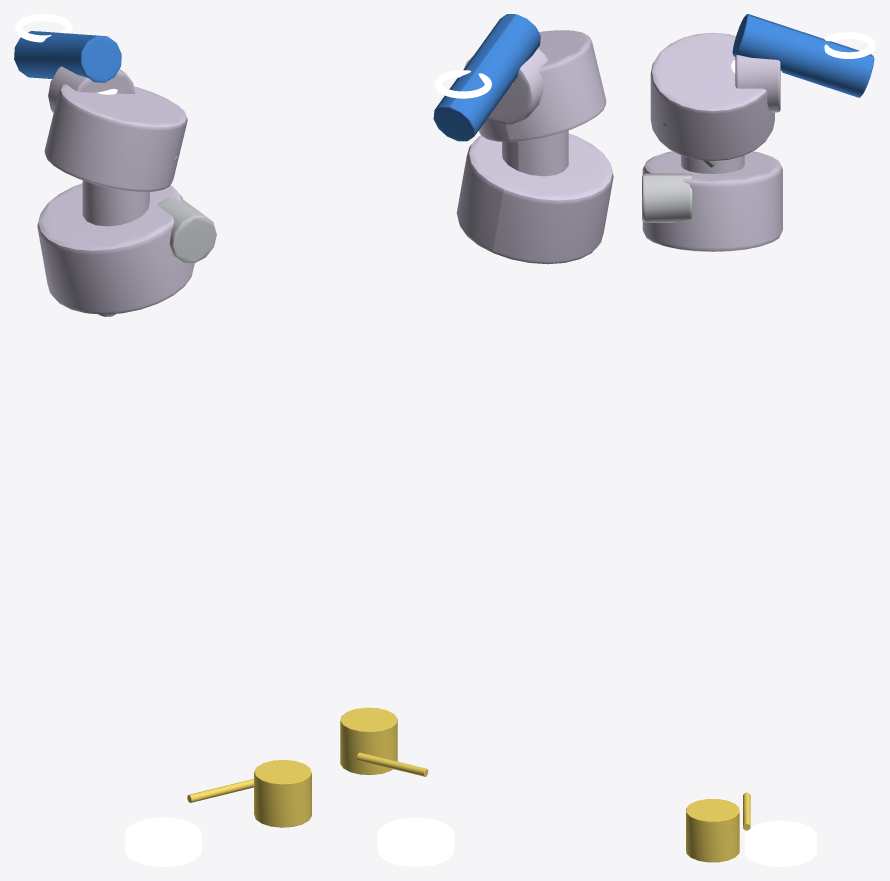
The model's file is engine_v8_turbo_l.glb.
The picture shows the model from 3 angles, left to right: view 1: azimuth 30°, elevation 25°; view 2: azimuth 150°, elevation 25°; view 3: azimuth 270°, elevation 25°; orthographic projection. The views are drawn at different scales.
Parts seen in each view (by area): view 1: Engine_V8_Turbo_L, GEO_V8Turbo_WastegateActuator, GEO_V8Turbo_BilletImpeller; view 2: Engine_V8_Turbo_L, GEO_V8Turbo_WastegateActuator, GEO_V8Turbo_BilletImpeller; view 3: Engine_V8_Turbo_L, GEO_V8Turbo_WastegateActuator, GEO_V8Turbo_BilletImpeller.
Part boxes in pixels (bbox=[...]): Engine_V8_Turbo_L: bbox=[14, 14, 216, 316]; GEO_V8Turbo_WastegateActuator: bbox=[187, 760, 311, 827]; GEO_V8Turbo_BilletImpeller: bbox=[125, 817, 201, 866]; Engine_V8_Turbo_L: bbox=[433, 14, 613, 264]; GEO_V8Turbo_WastegateActuator: bbox=[340, 707, 428, 776]; GEO_V8Turbo_BilletImpeller: bbox=[377, 817, 454, 866]; Engine_V8_Turbo_L: bbox=[642, 14, 875, 251]; GEO_V8Turbo_WastegateActuator: bbox=[686, 792, 750, 862]; GEO_V8Turbo_BilletImpeller: bbox=[744, 820, 816, 866].
Bounding box in the file's own units: 0.2495 × 0.7766 × 0.2065.
